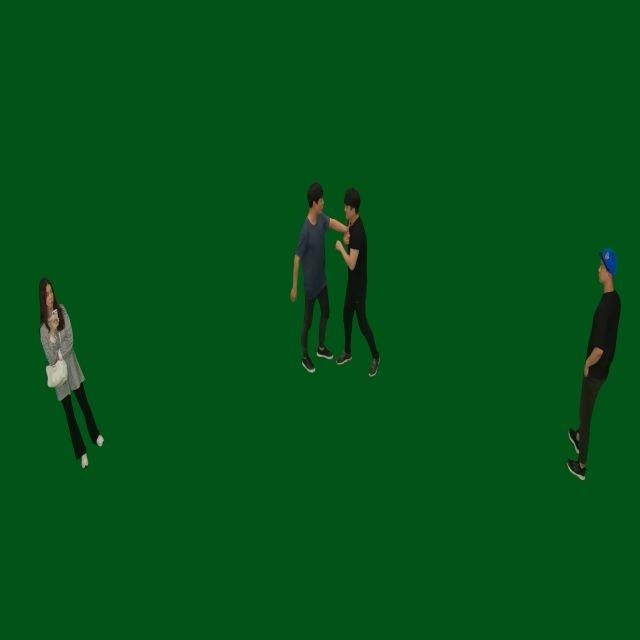fight: (290, 183, 380, 383)
non-fight: (564, 251, 621, 484), (37, 277, 103, 468)
